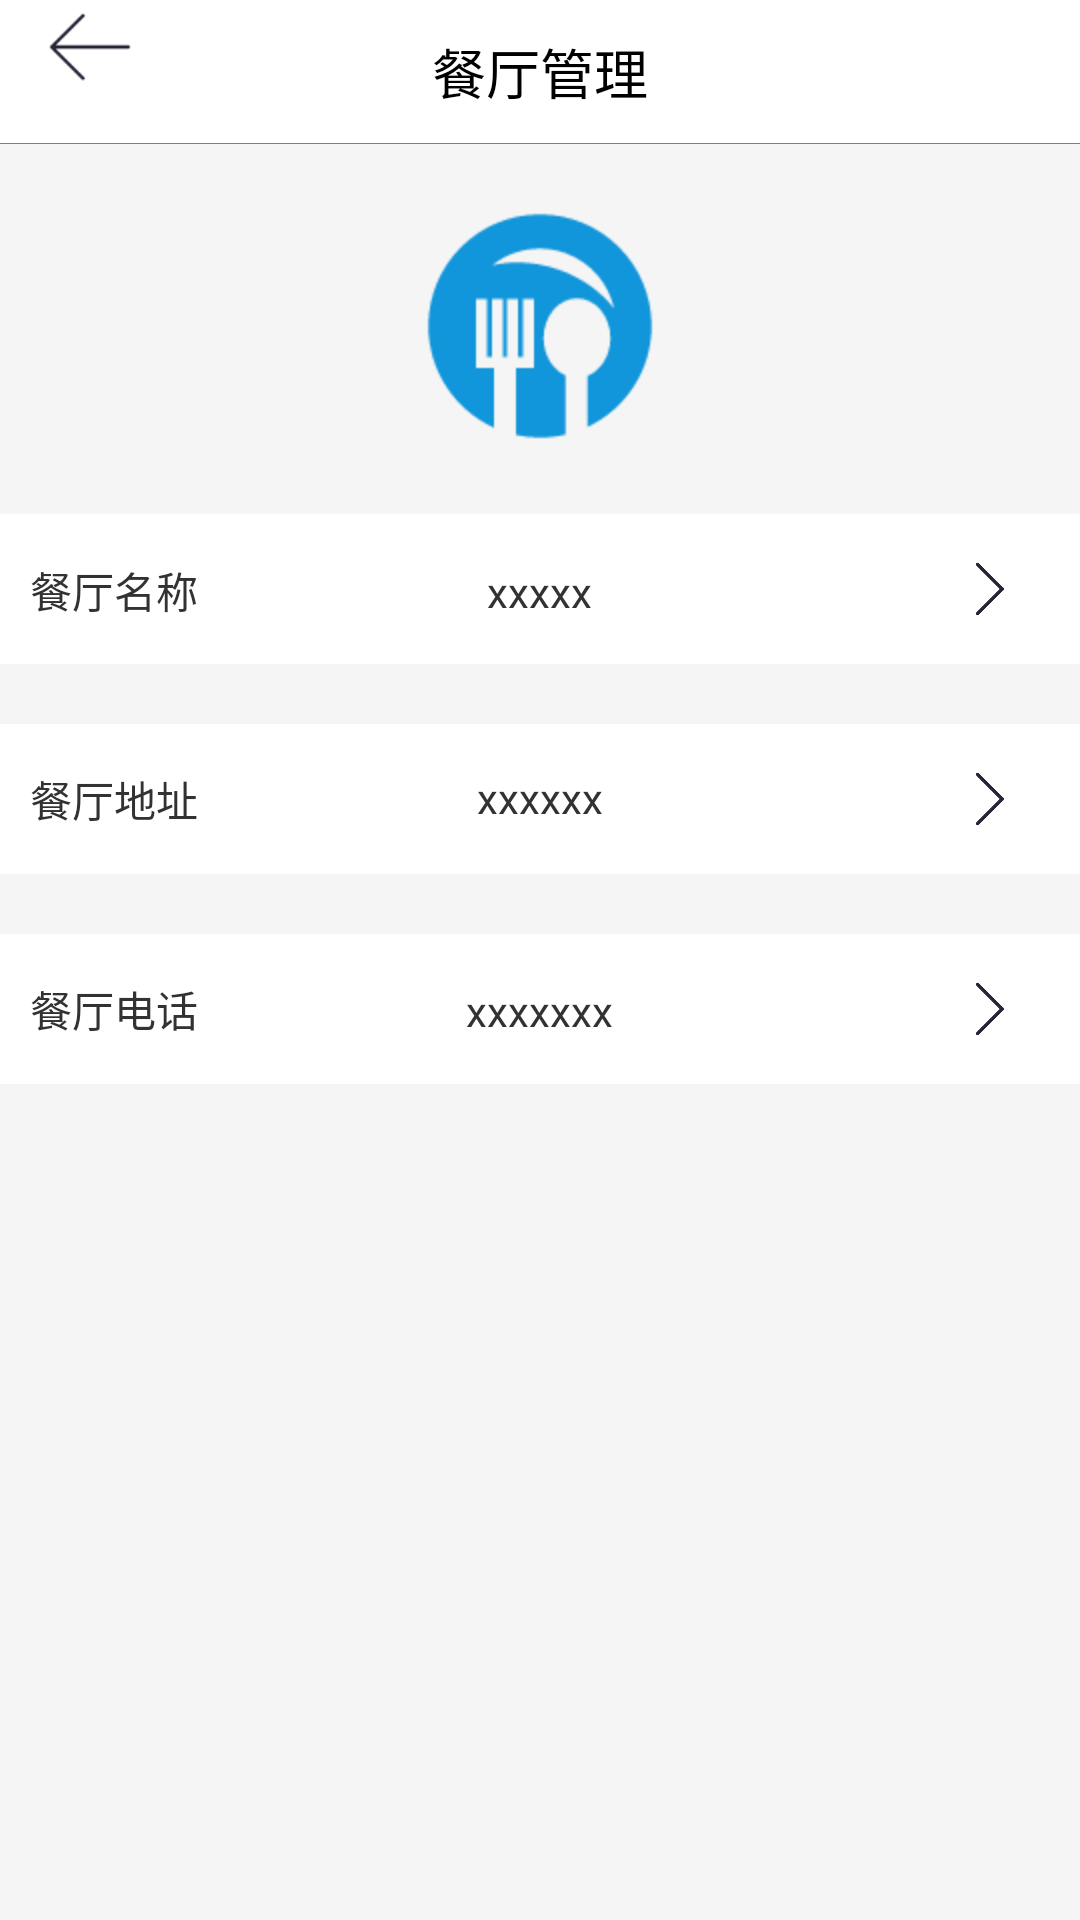

Screen size 1080 × 1920. Icon name, then its center in pixels as point (x, y):
left arrow: point (90, 47)
right arrow: point (990, 589), point (990, 799), point (990, 1009)
